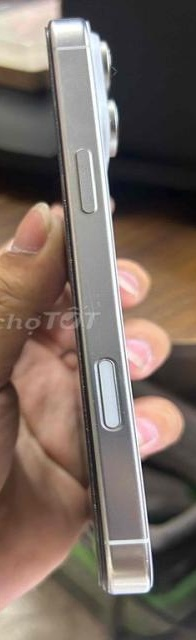scratch: (83, 285, 117, 341), (126, 550, 170, 590), (81, 170, 105, 221), (110, 368, 139, 397)
